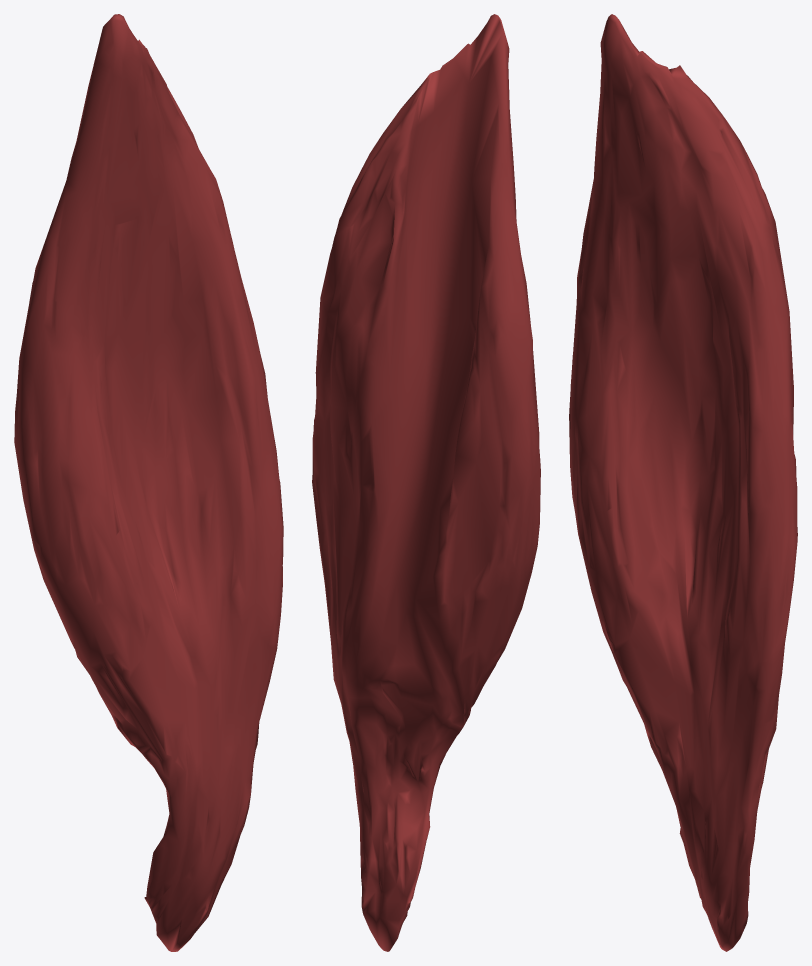
The model's file is brachialis-muscle-l.glb.
The picture shows the model from 3 angles, left to right: view 1: azimuth 30°, elevation 25°; view 2: azimuth 150°, elevation 25°; view 3: azimuth 330°, elevation 25°; orthographic projection. The views are drawn at different scales.
Visible parts, largest first — view 1: Brachialis muscle.l; view 2: Brachialis muscle.l; view 3: Brachialis muscle.l.
Boxes of the visible parts, x1=… form: Brachialis muscle.l: x1=14, y1=14, x2=283, y2=951; Brachialis muscle.l: x1=312, y1=14, x2=540, y2=951; Brachialis muscle.l: x1=569, y1=14, x2=797, y2=951.
Size of the model in its own units: 0.0609 by 0.2323 by 0.0271.
